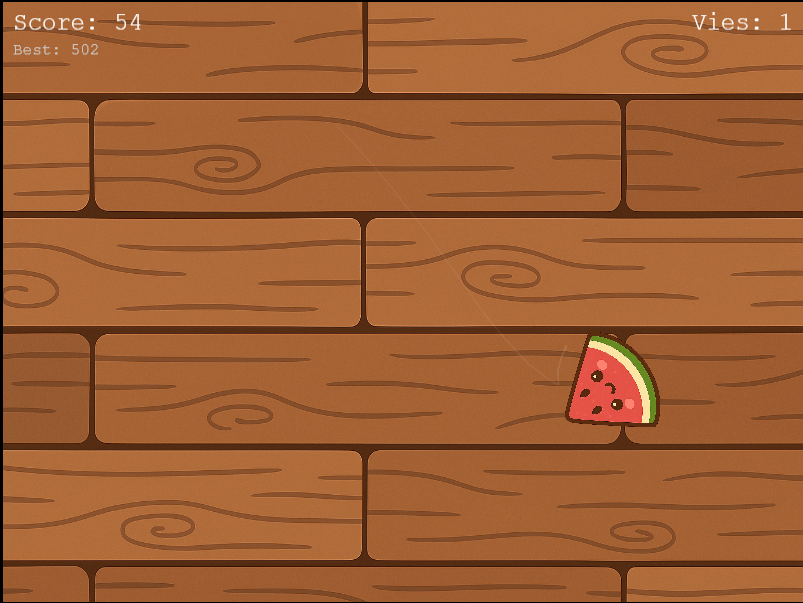fruit: (561, 330, 667, 433)
